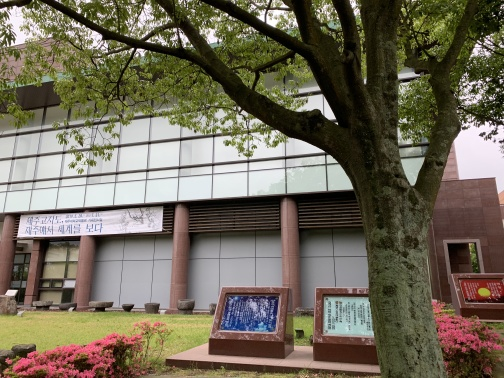Museum: (9, 107, 367, 324)
